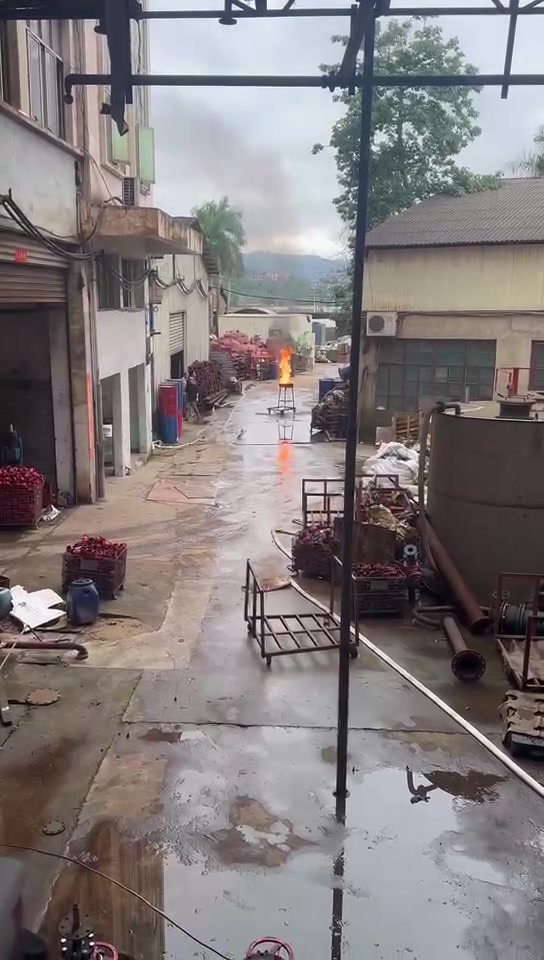fire: (278, 346, 293, 384)
